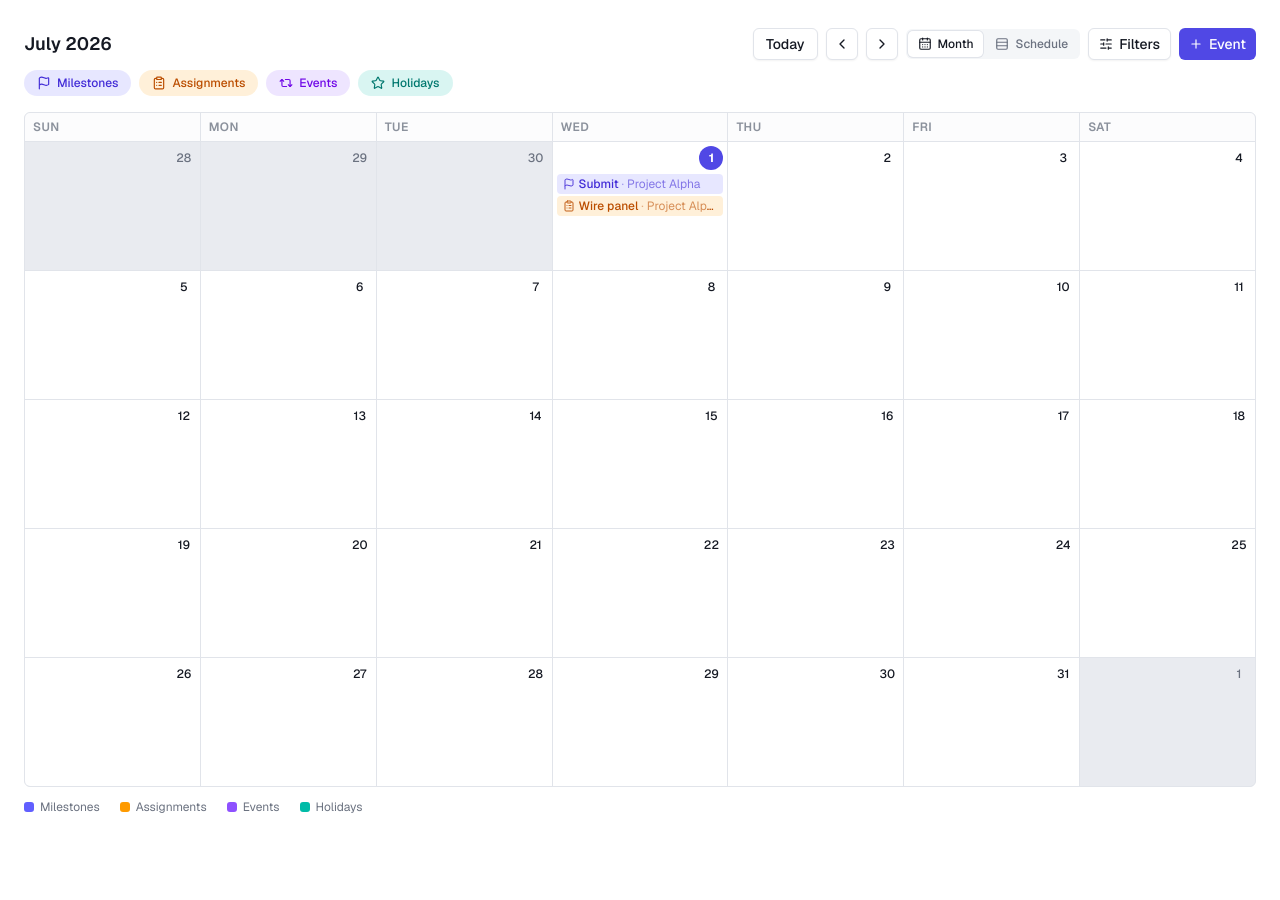
Test: CalendarPage › hides assignment items when the assignment toggle is turned off
expect the text "Submit" is shown: met, box [579, 176, 619, 192]
expect the text "Wire panel" is shown: met, box [579, 198, 638, 214]
Click the button "Assignments". click: (199, 83)
box: [140, 70, 258, 96]
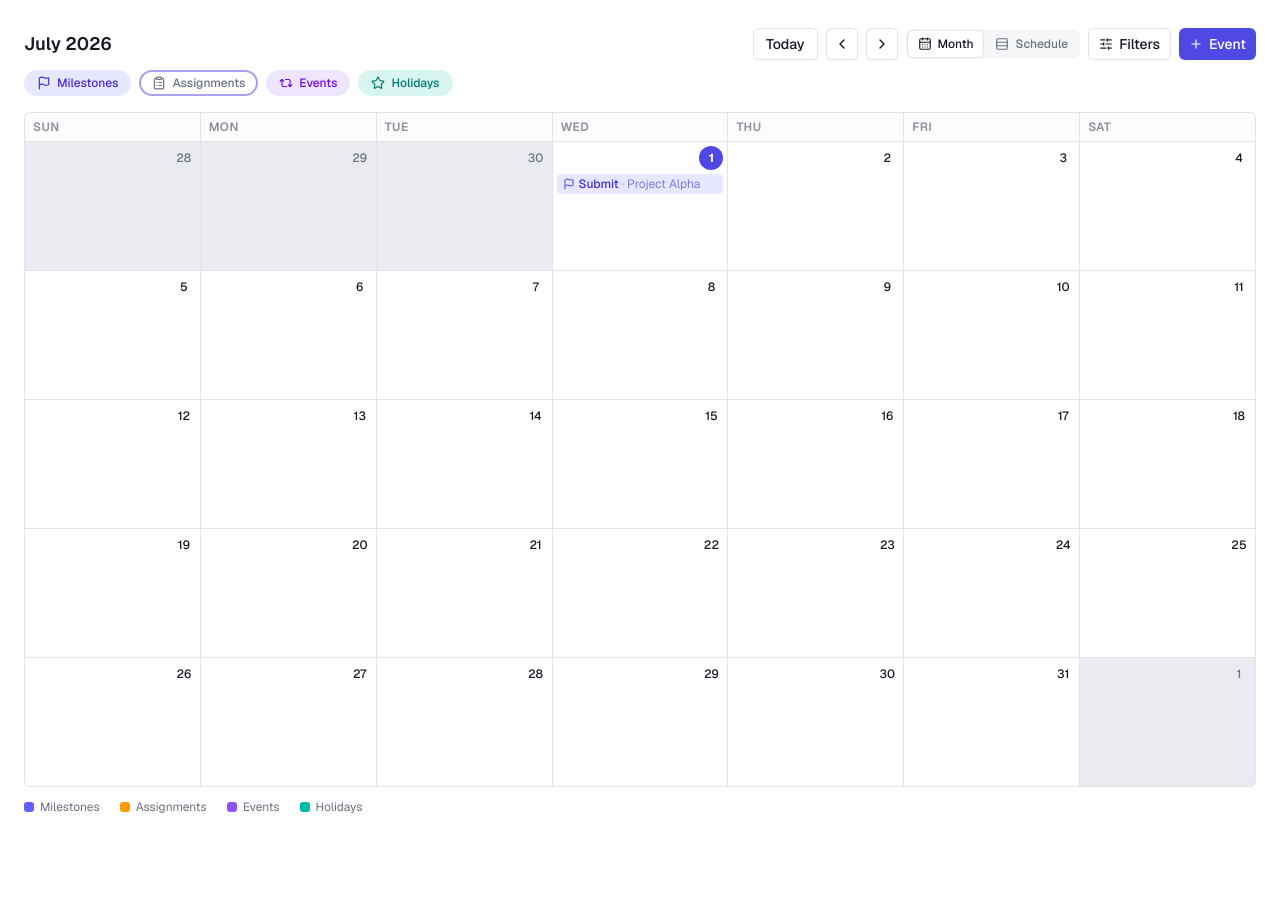
expect the text "Submit" is shown: met, box [579, 176, 619, 192]
expect the button "Wire panel" is gone: met
